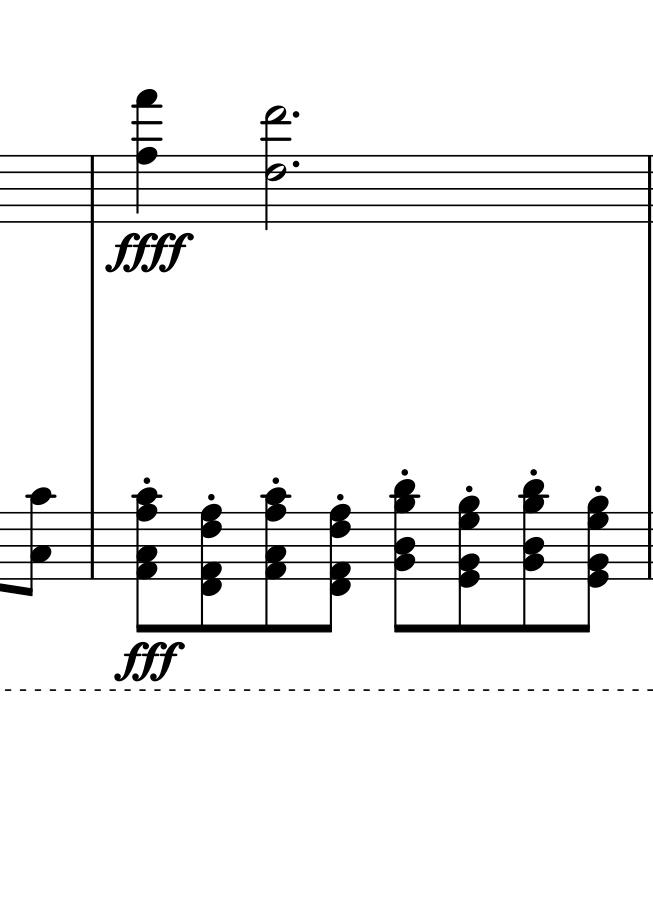2_6_13: (261, 104, 291, 231)
4_8_15: (130, 88, 162, 224)
8_3_10: (20, 486, 55, 598)
8_4th: (575, 494, 611, 633), (518, 478, 550, 631), (132, 485, 163, 636), (454, 492, 486, 637), (260, 488, 292, 632), (390, 478, 419, 635), (318, 504, 353, 633), (198, 503, 227, 633)
Single_barline: (84, 155, 100, 220), (84, 514, 99, 578), (642, 512, 653, 579), (642, 155, 653, 217)
dot: (291, 158, 302, 170), (291, 109, 301, 120)
fff: (115, 638, 185, 685)
ffff: (108, 232, 191, 275)
